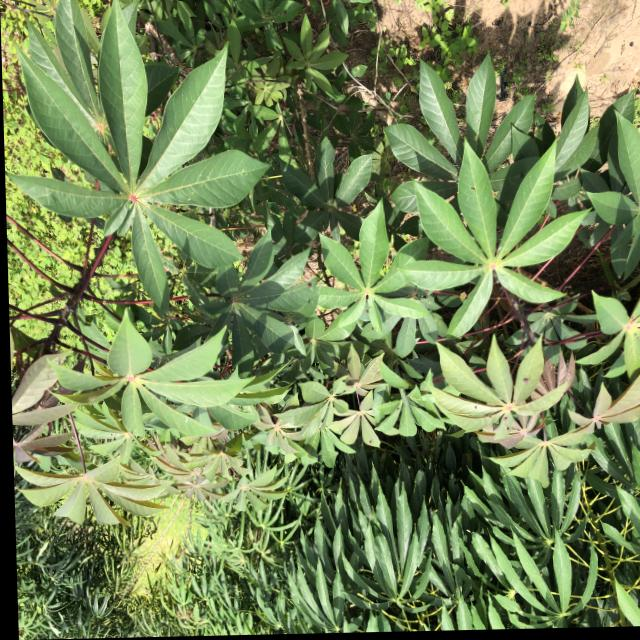Mosca: (471, 399, 487, 413), (463, 180, 480, 193), (521, 373, 536, 387), (362, 435, 378, 448)
